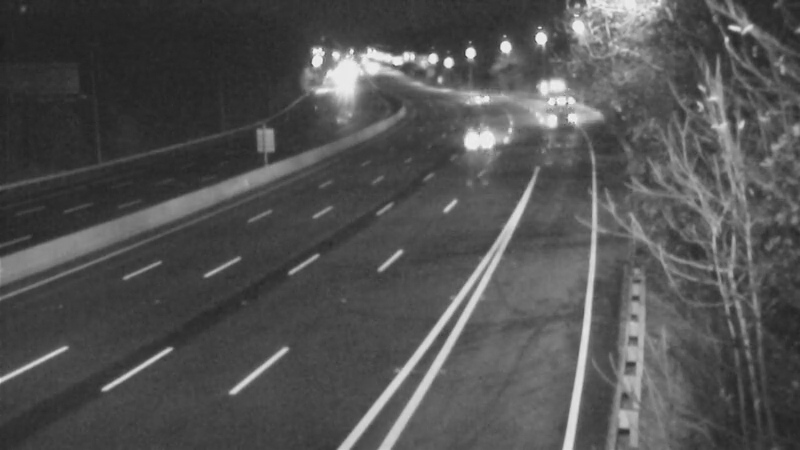vehicle: (451, 76, 501, 126), (523, 80, 573, 130), (459, 114, 509, 164)
